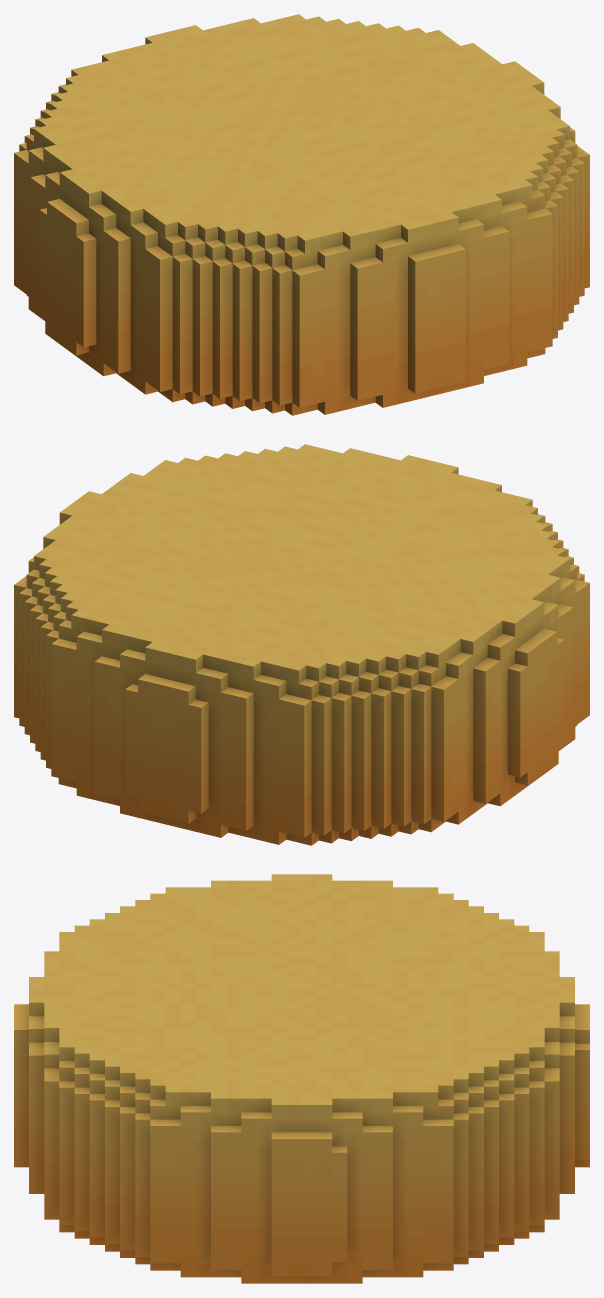
File: cheese.glb
3 renders of one model, top to bottom at view 1: azimuth 30°, elevation 25°; view 2: azimuth 150°, elevation 25°; view 3: azimuth 270°, elevation 25°, orthographic. The views are drawn at different scales.
Parts seen in each view (by area): view 1: voxels; view 2: voxels; view 3: voxels.
Part boxes in pixels (x1,y1,x2,y2): voxels: [14, 14, 589, 415]; voxels: [14, 444, 589, 845]; voxels: [14, 874, 589, 1283].
Bounding box in the file's own units: 0.6967 × 0.2383 × 0.6967.
